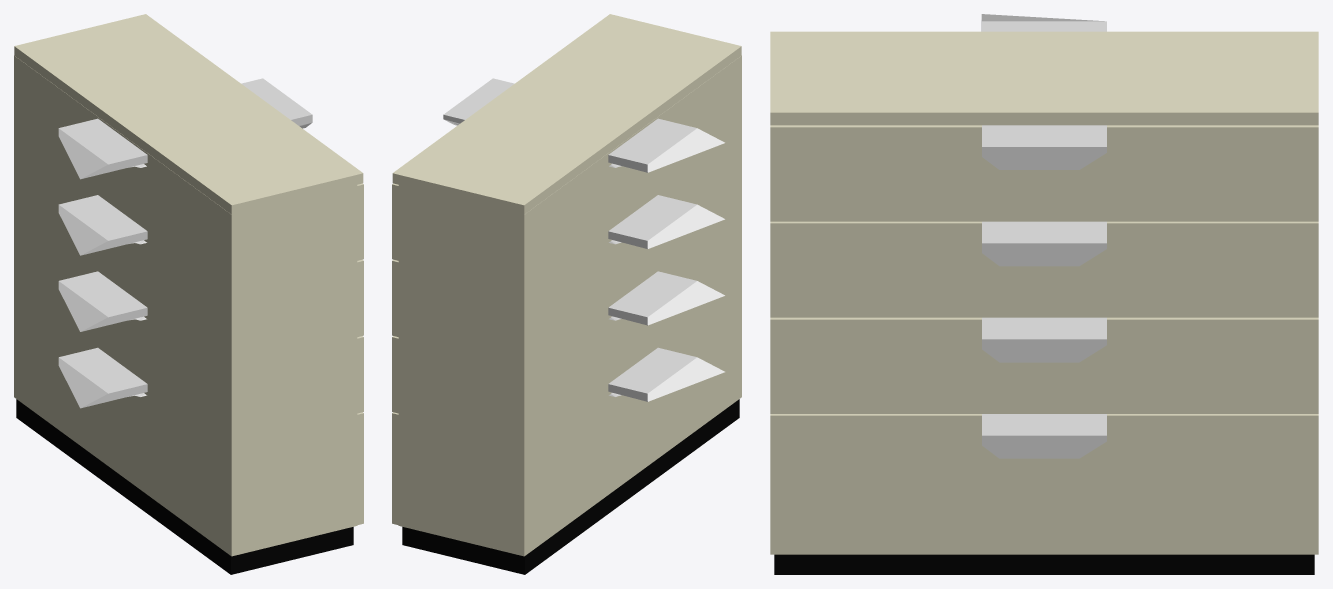
Rendered from Komod3.glb.
3 views of the same model, side by side, from view 1: azimuth 30°, elevation 25°; view 2: azimuth 150°, elevation 25°; view 3: azimuth 270°, elevation 25° (orthographic). The views are drawn at different scales.
Visible parts, largest first — view 1: Куб, Куб.003, Куб.001, Куб.004, Куб.002; view 2: Куб, Куб.003, Куб.001, Куб.004, Куб.002; view 3: Куб.002, Куб.003, Куб.001, Куб.004.
Boxes of the visible parts, box(x1,y1,x2,y2) form: Куб: box(14, 55, 357, 556); Куб.003: box(14, 14, 363, 214); Куб.001: box(58, 78, 312, 408); Куб.004: box(16, 399, 353, 574); Куб.002: box(357, 183, 363, 525); Куб: box(398, 55, 741, 556); Куб.003: box(392, 14, 741, 214); Куб.001: box(443, 78, 724, 401); Куб.004: box(402, 399, 739, 574); Куб.002: box(392, 183, 398, 525); Куб.002: box(770, 125, 1318, 554); Куб.003: box(770, 31, 1318, 125); Куб.001: box(981, 14, 1106, 458); Куб.004: box(774, 554, 1314, 574).
Bounding box in the file's own units: 3.7 × 5.64 × 6.
